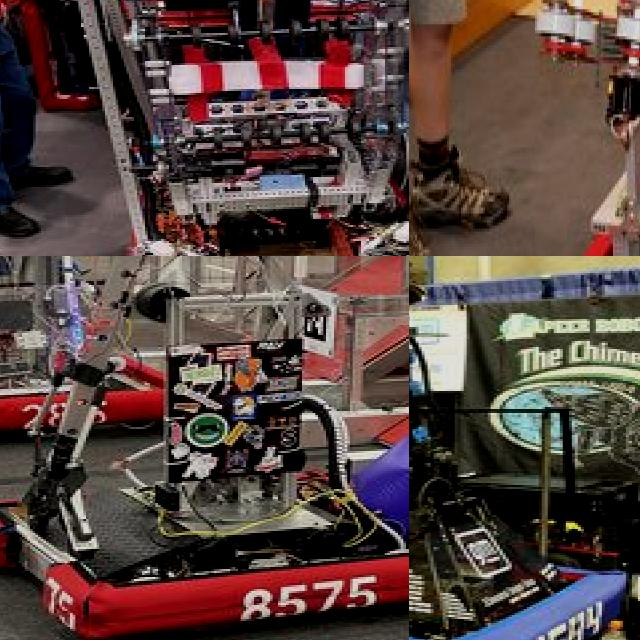FRC-Robots: (0, 256, 409, 633), (54, 0, 409, 256), (409, 256, 640, 640), (508, 0, 640, 256)
